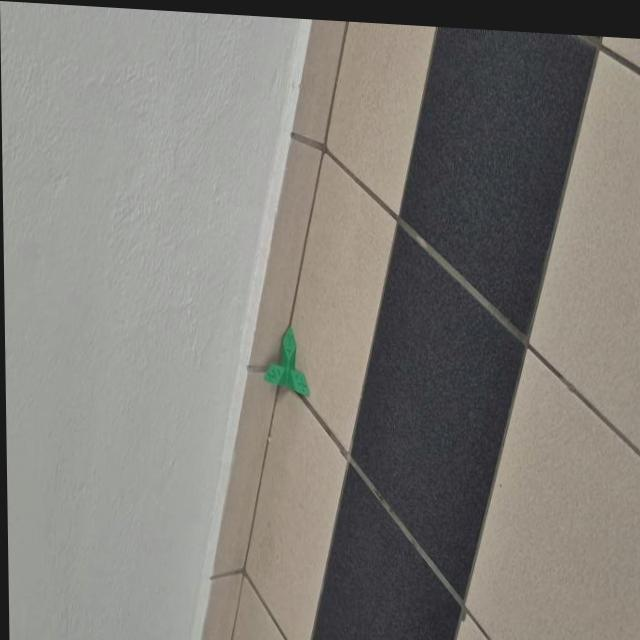eje: (262, 323, 311, 398)
